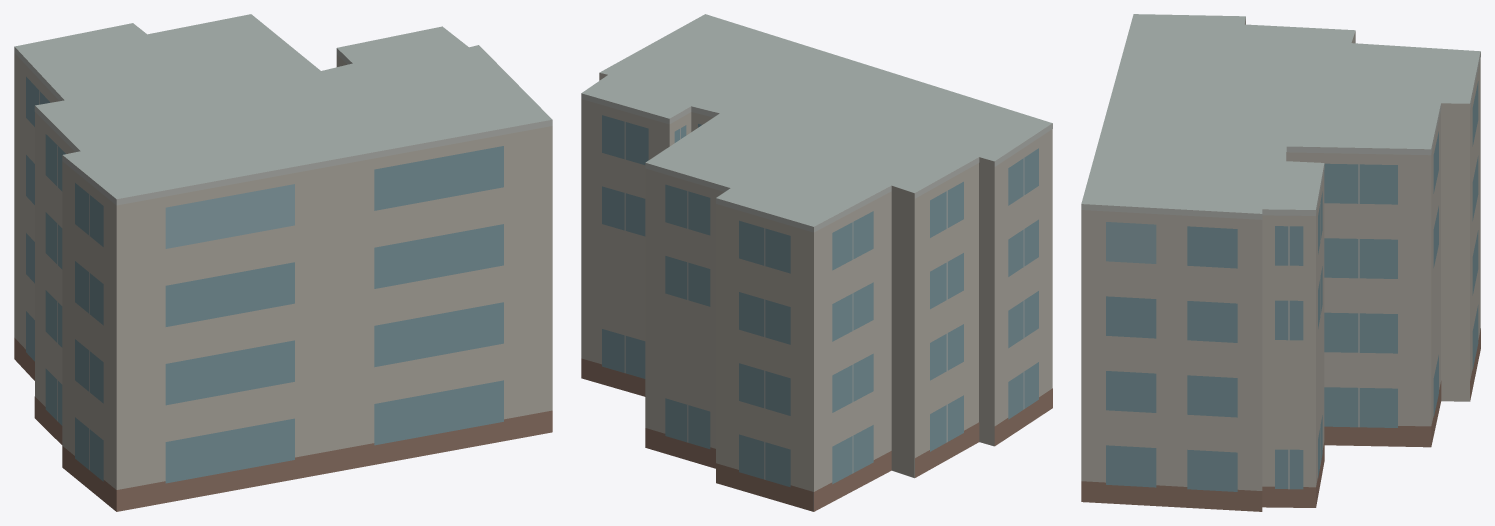
The model's file is survey-upis-32669551.glb.
3 views of the same model, side by side, from view 1: azimuth 30°, elevation 25°; view 2: azimuth 150°, elevation 25°; view 3: azimuth 270°, elevation 25° (orthographic). The views are drawn at different scales.
Visible parts, largest first — view 1: survey-upis-32669551.tmp; view 2: survey-upis-32669551.tmp; view 3: survey-upis-32669551.tmp.
Part boxes in pixels (left/top/right/bottom): survey-upis-32669551.tmp: left=14, top=14, right=552, bottom=511; survey-upis-32669551.tmp: left=581, top=14, right=1052, bottom=511; survey-upis-32669551.tmp: left=1081, top=14, right=1480, bottom=511.
Bounding box in the file's own units: 17.57 × 12.2 × 14.83.
